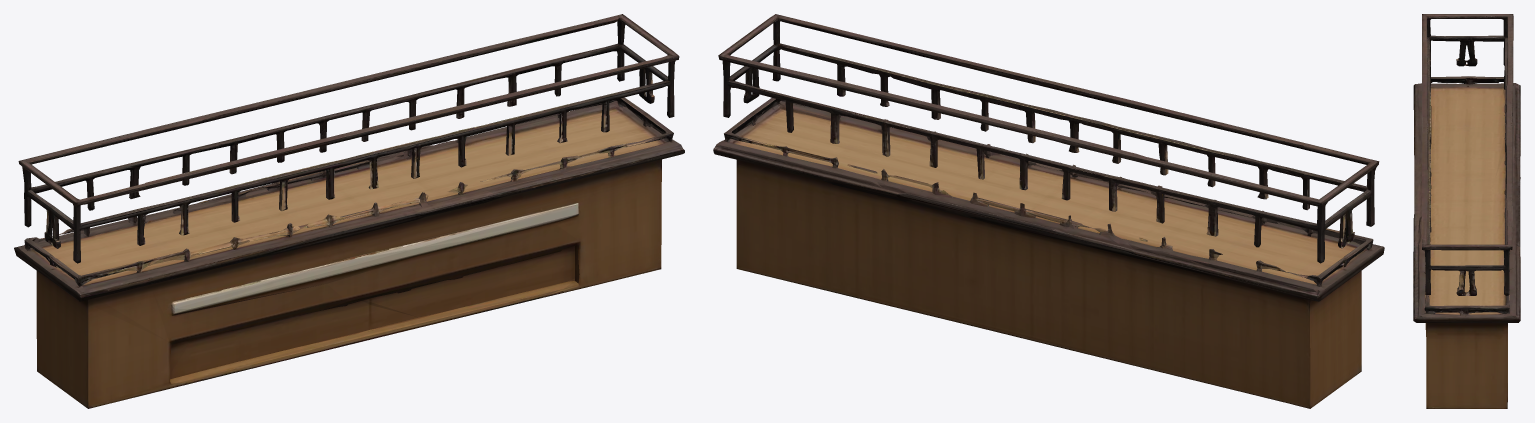
The model's file is headphones_black.glb.
The picture shows the model from 3 angles, left to right: view 1: azimuth 30°, elevation 25°; view 2: azimuth 150°, elevation 25°; view 3: azimuth 270°, elevation 25°; orthographic projection. The views are drawn at different scales.
Visible parts, largest first — view 1: geometry_0; view 2: geometry_0; view 3: geometry_0.
Boxes of the visible parts, x1,y1,x2,y2 form: geometry_0: (14,14,684,408); geometry_0: (713,14,1384,408); geometry_0: (1413,14,1520,408).
Size of the model in its own units: 1 by 0.3362 by 0.1945.
1 material, 1 textured.
